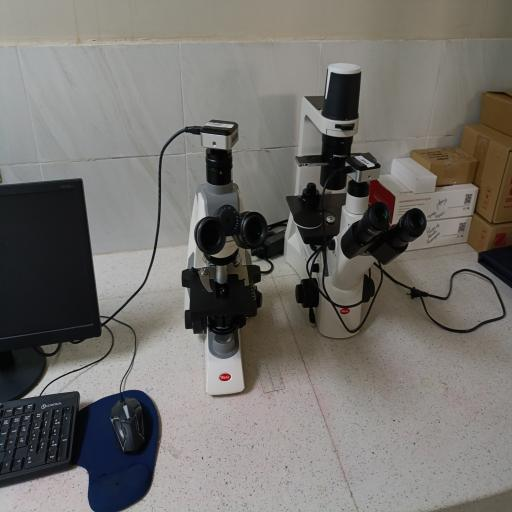Microscopio_camara: (282, 54, 432, 374), (155, 106, 272, 402)
